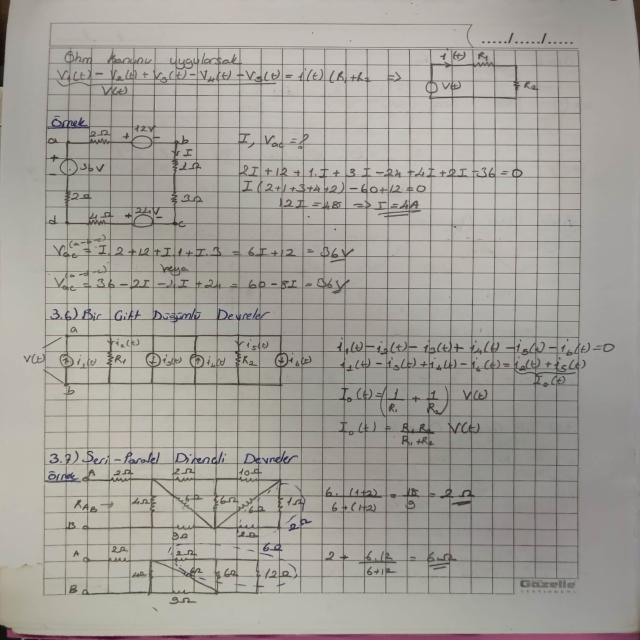image: (44, 325, 316, 399), (64, 467, 315, 541), (43, 122, 209, 233), (64, 542, 306, 604), (418, 45, 546, 104)
math: (232, 160, 528, 220), (326, 334, 618, 374), (51, 64, 376, 98), (332, 384, 497, 450), (45, 241, 357, 263), (52, 273, 358, 294), (321, 484, 479, 518), (322, 544, 464, 578)
text: (46, 449, 304, 466), (42, 306, 276, 324), (55, 49, 245, 68)
